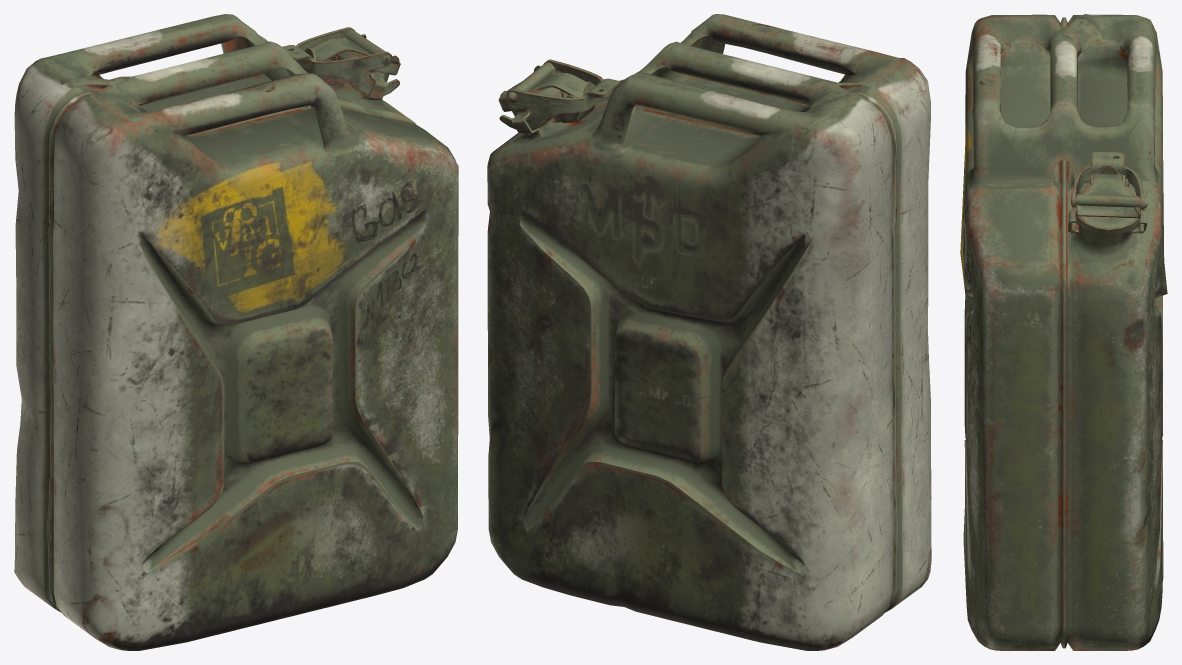
The model's file is Fuel.obj.
3 views of the same model, side by side, from view 1: azimuth 30°, elevation 25°; view 2: azimuth 150°, elevation 25°; view 3: azimuth 270°, elevation 25° (orthographic). The views are drawn at different scales.
Visible parts, largest first — view 1: defaultMaterial_4, defaultMaterial_3, defaultMaterial_2; view 2: defaultMaterial_4, defaultMaterial_3, defaultMaterial_2; view 3: defaultMaterial_4, defaultMaterial_2, defaultMaterial_3, defaultMaterial_5.
Boxes of the visible parts, left/top/right/bottom form: defaultMaterial_4: left=14, top=14, right=458, bottom=650; defaultMaterial_3: left=282, top=27, right=399, bottom=95; defaultMaterial_2: left=311, top=29, right=399, bottom=64; defaultMaterial_4: left=487, top=14, right=931, bottom=650; defaultMaterial_3: left=499, top=59, right=620, bottom=130; defaultMaterial_2: left=500, top=62, right=588, bottom=101; defaultMaterial_4: left=960, top=14, right=1167, bottom=650; defaultMaterial_2: left=1075, top=173, right=1140, bottom=218; defaultMaterial_3: left=1071, top=151, right=1144, bottom=233; defaultMaterial_5: left=1075, top=184, right=1140, bottom=236.
Bounding box in the file's own units: 0.4167 × 0.5635 × 0.2134.
Materials: 1 (1 with a texture image).
